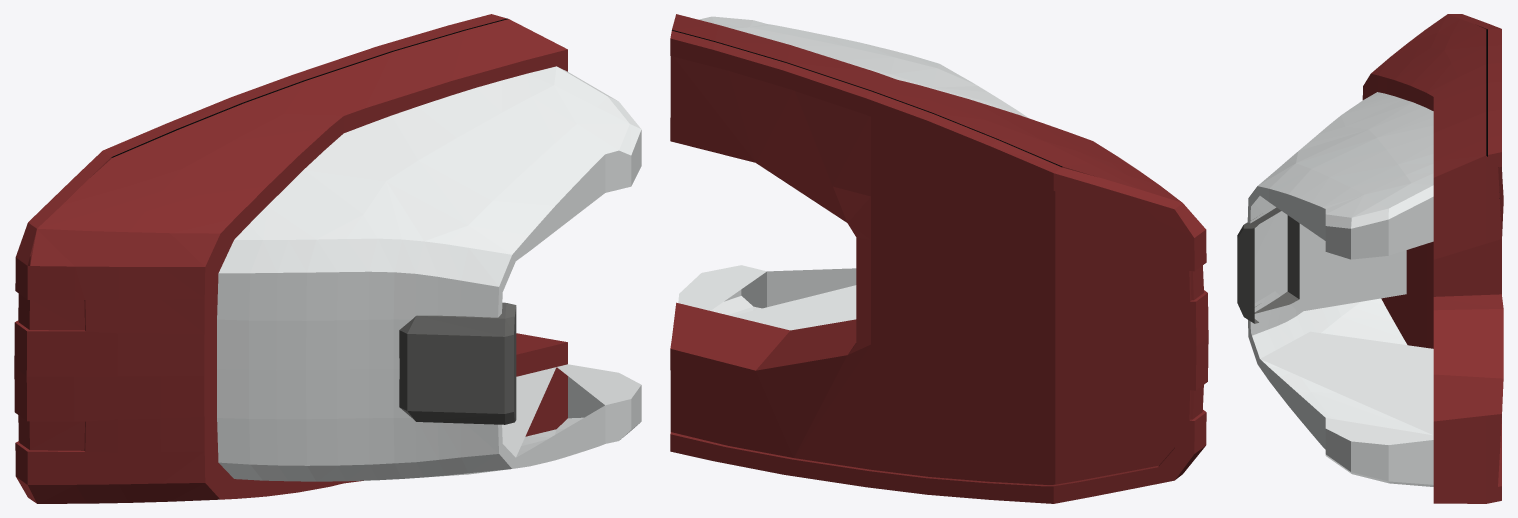
File: rx78_object_034-lib.dae
3 views of the same model, side by side, from view 1: azimuth 30°, elevation 25°; view 2: azimuth 150°, elevation 25°; view 3: azimuth 270°, elevation 25° (orthographic). The views are drawn at different scales.
Parts seen in each view (by area): view 1: rx78_object_034Mesh-node; view 2: rx78_object_034Mesh-node; view 3: rx78_object_034Mesh-node.
Part boxes in pixels (left/top/right/bottom): rx78_object_034Mesh-node: left=14, top=14, right=641, bottom=503; rx78_object_034Mesh-node: left=670, top=14, right=1208, bottom=503; rx78_object_034Mesh-node: left=1237, top=14, right=1503, bottom=503.
Bounding box in the file's own units: 34.12 × 24.2 × 16.75.
